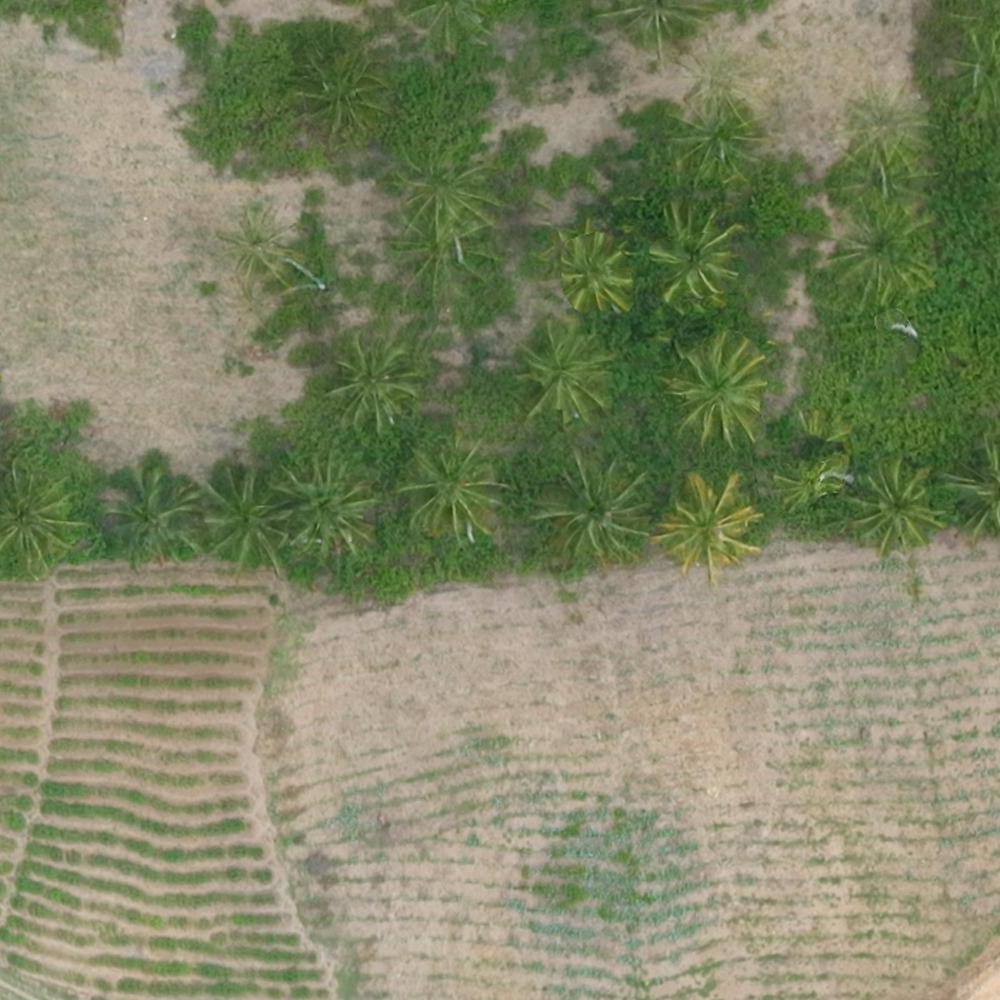Palm: (532, 452, 642, 555), (668, 331, 766, 440), (195, 466, 286, 571), (661, 472, 762, 566), (283, 459, 376, 557), (403, 442, 495, 540), (513, 321, 610, 413), (644, 208, 737, 302), (852, 458, 943, 548), (1, 466, 80, 565), (109, 469, 196, 557), (328, 338, 415, 425), (550, 229, 634, 312)
